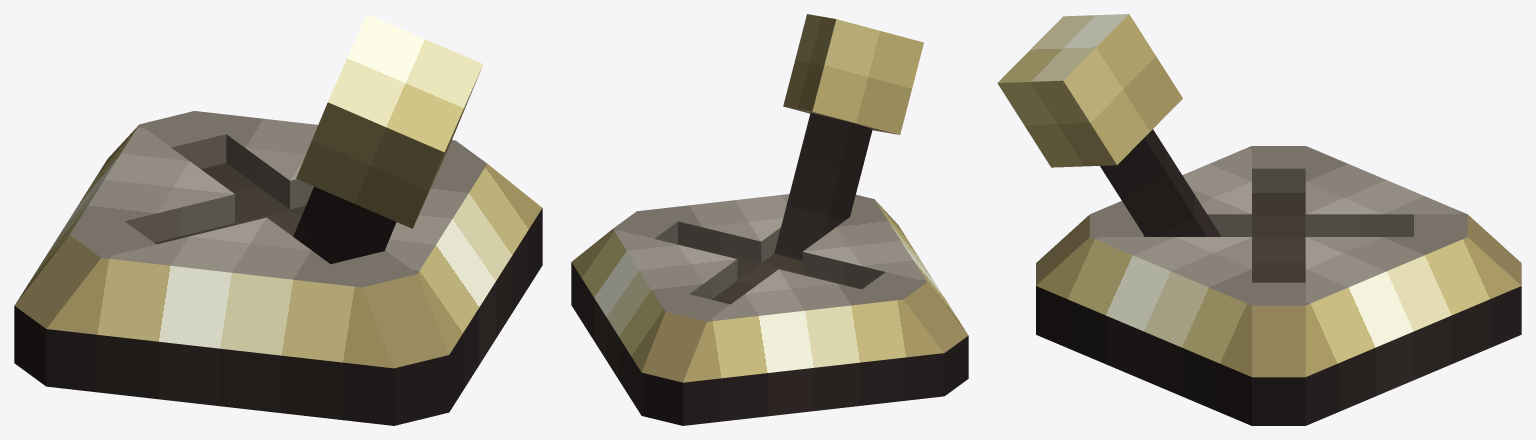
Rendered from lever_5state_1.obj.
3 views of the same model, side by side, from view 1: azimuth 30°, elevation 25°; view 2: azimuth 150°, elevation 25°; view 3: azimuth 270°, elevation 25° (orthographic). The views are drawn at different scales.
Parts seen in each view (by area): view 1: 5-STATE_Circle.004, LEVER_Cube.049; view 2: 5-STATE_Circle.004, LEVER_Cube.049; view 3: 5-STATE_Circle.004, LEVER_Cube.049.
Boxes of the visible parts, x1,y1,x2,y2 form: 5-STATE_Circle.004: [14, 111, 542, 425]; LEVER_Cube.049: [293, 14, 483, 263]; 5-STATE_Circle.004: [571, 194, 968, 425]; LEVER_Cube.049: [774, 14, 923, 260]; 5-STATE_Circle.004: [1036, 146, 1521, 425]; LEVER_Cube.049: [997, 14, 1221, 236].
Bounding box in the file's own units: 0.5635 × 0.396 × 0.6083.
